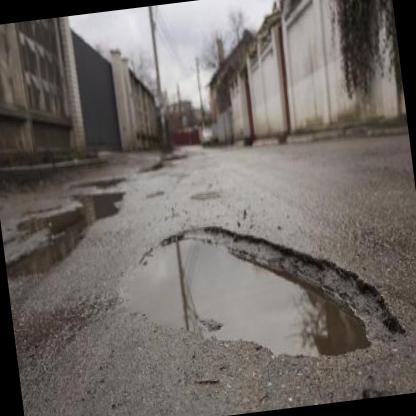pothole: (111, 199, 406, 383)
